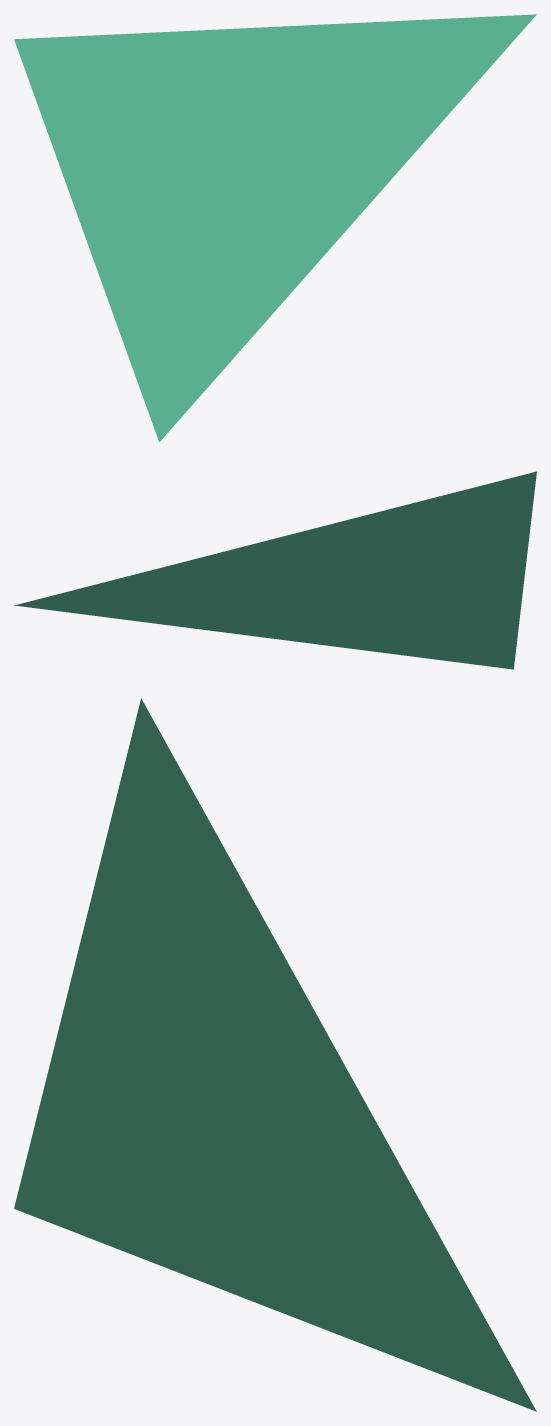
3 views of the same model, one above another, from view 1: azimuth 30°, elevation 25°; view 2: azimuth 150°, elevation 25°; view 3: azimuth 270°, elevation 25° (orthographic). The views are drawn at different scales.
Size of the model in its own units: 5.27 by 2.82 by 2.92.
